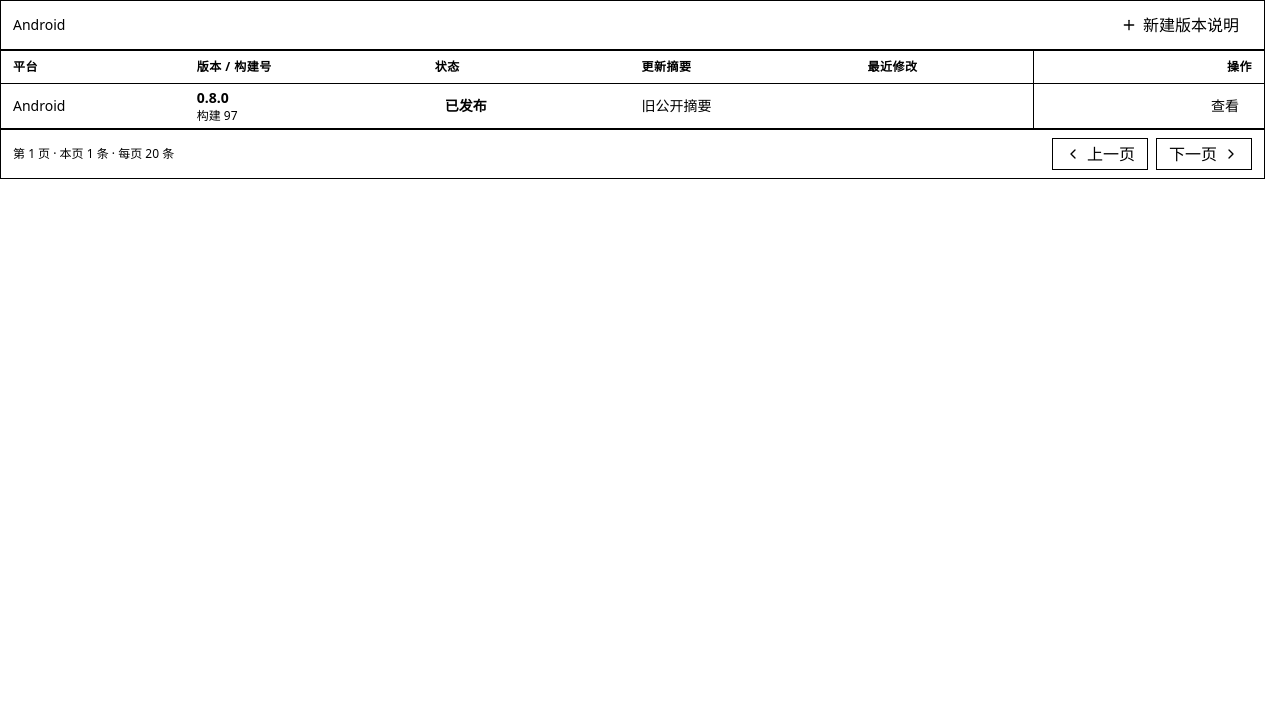
Test: 移动端版本管理（真实 hooks 与表单，模拟 API） › 已发布修正保存期间保护旧公开快照，确认后使用服务端新快照
Click the button "查看". click: (1225, 106)
box: [1198,90,1252,122]
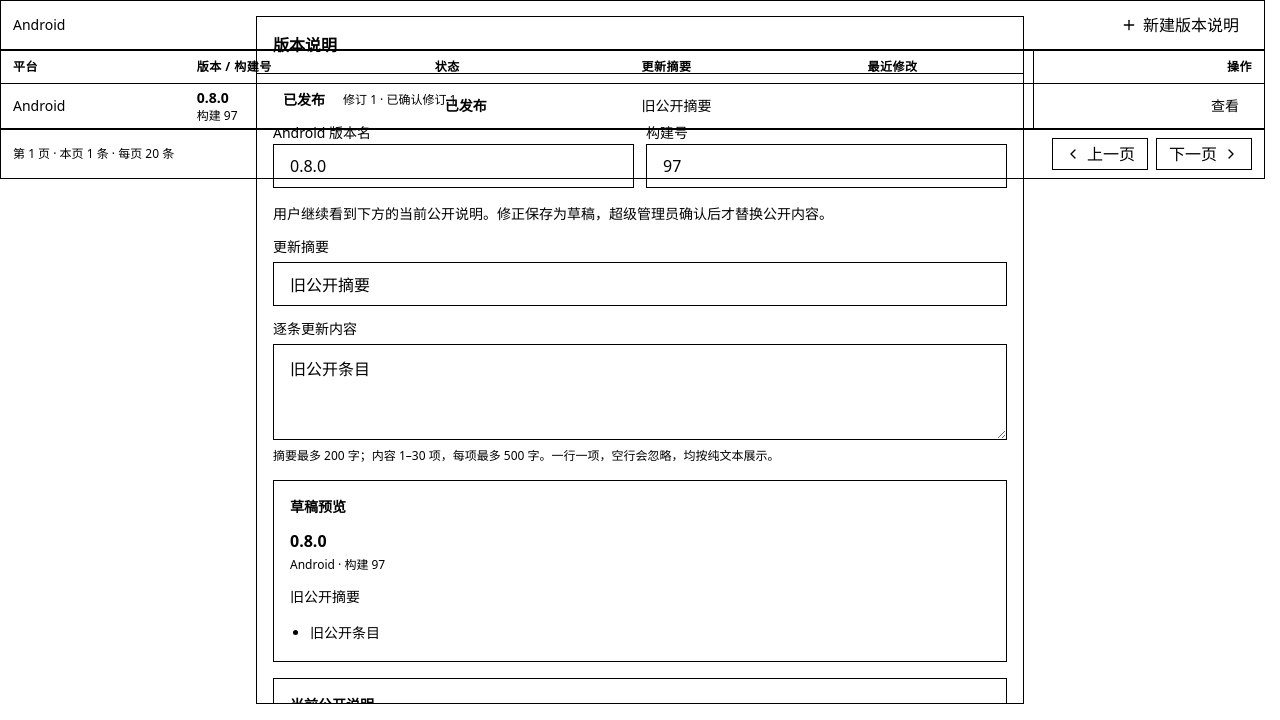
Expected: the field showing "0.8.0" is shown, [273,144,634,188]
Replace the text in the field labelled "更新摘要" with "修正摘要". click: (640, 284)
box: [273,262,1007,306]
(page scrolled)
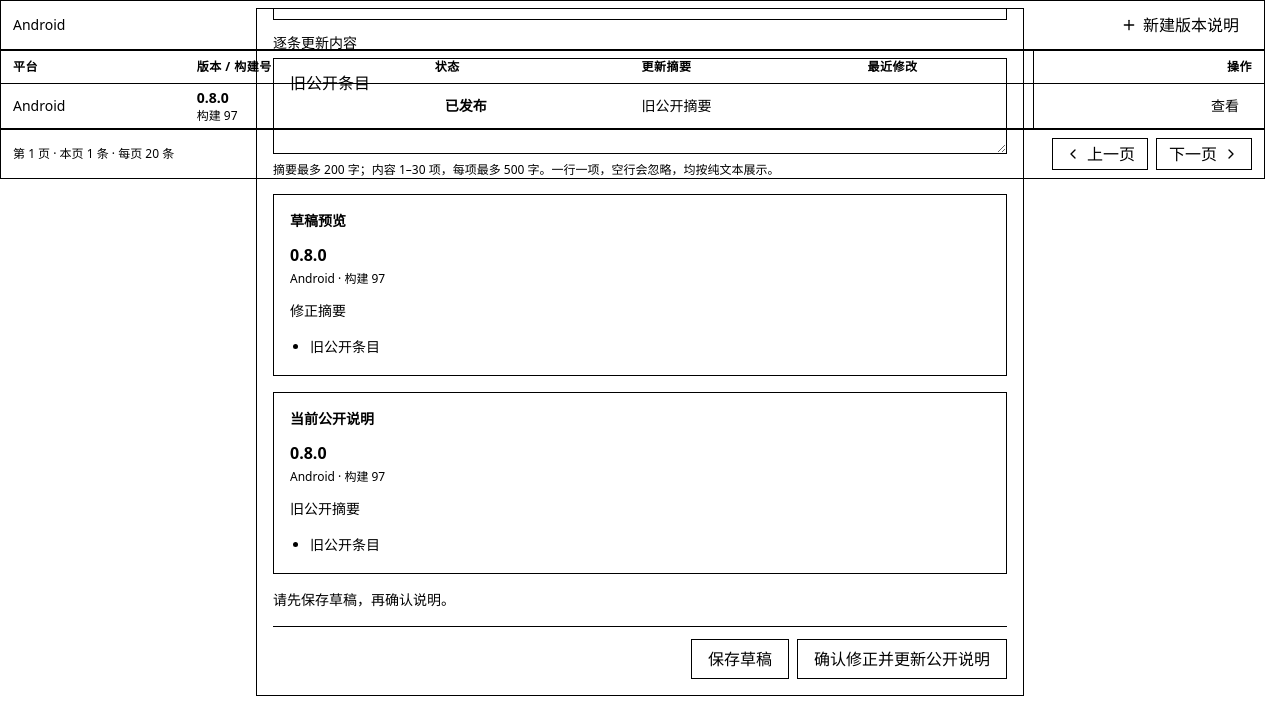
Click the button "保存草稿". click: (740, 659)
box: [691,639,789,679]
(page scrolled)
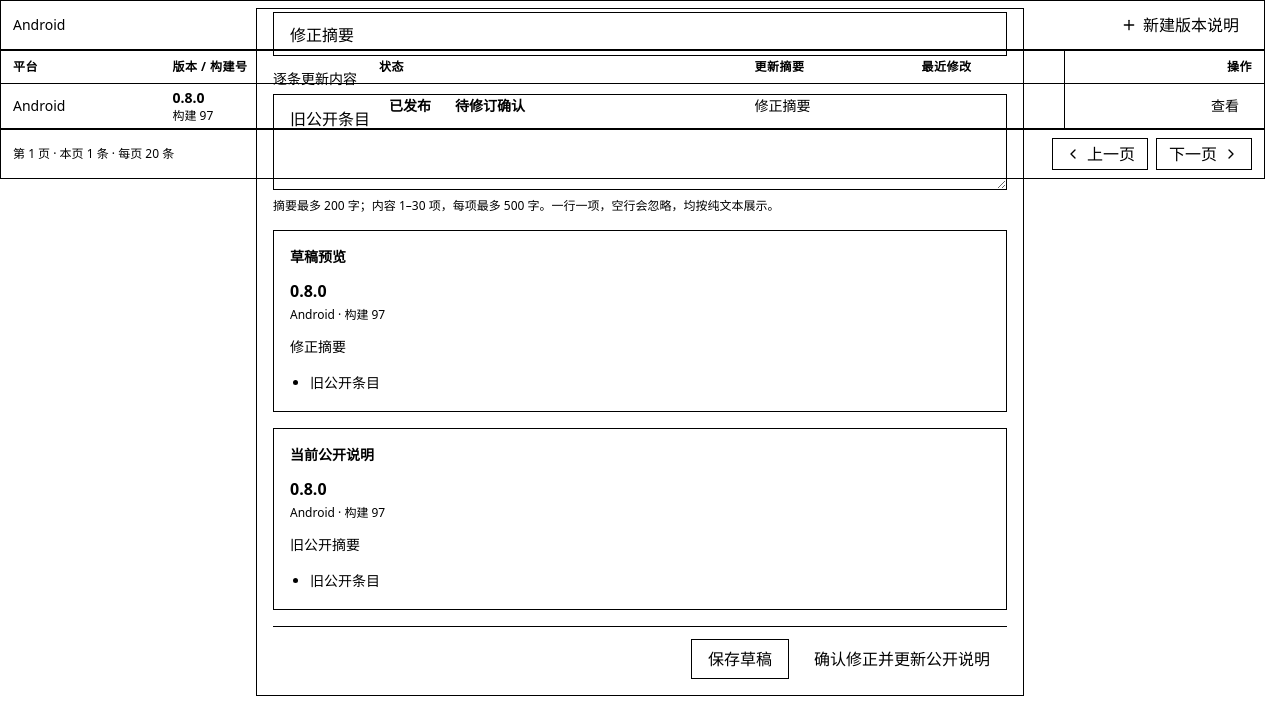
Expected: the text "旧公开摘要" is shown, [290,535,360,554]
Click the button "确认修正并更新公开说明". click: (902, 659)
box: [797,639,1007,679]
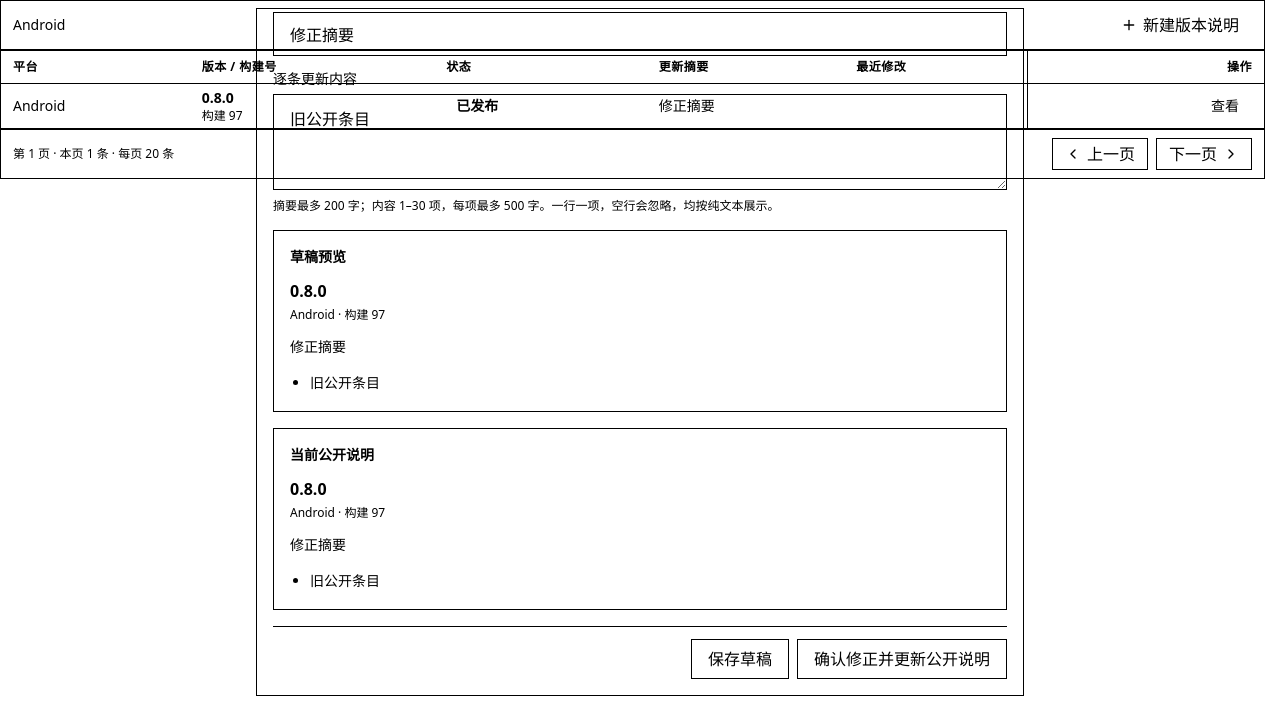
Expected: the text "修正摘要" below "当前公开说明" is shown, [290,535,346,554]
